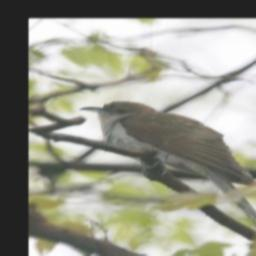Cuckoo: (80, 100, 256, 239)
